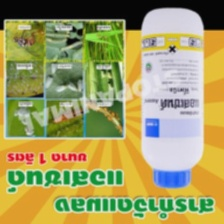insecticide: (137, 3, 207, 192)
